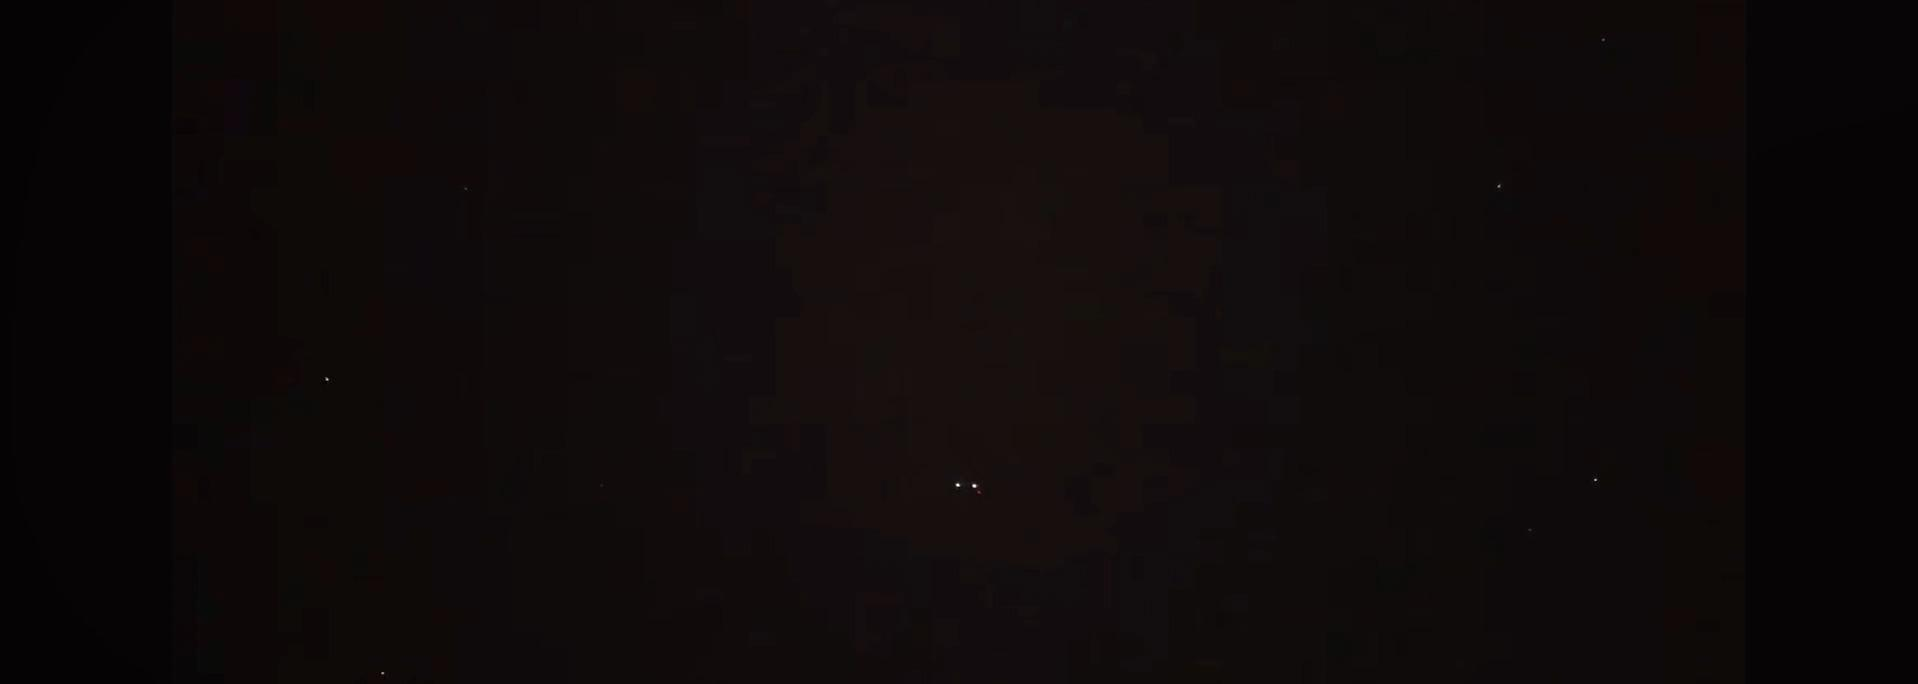Plane: (932, 476, 1008, 500)
